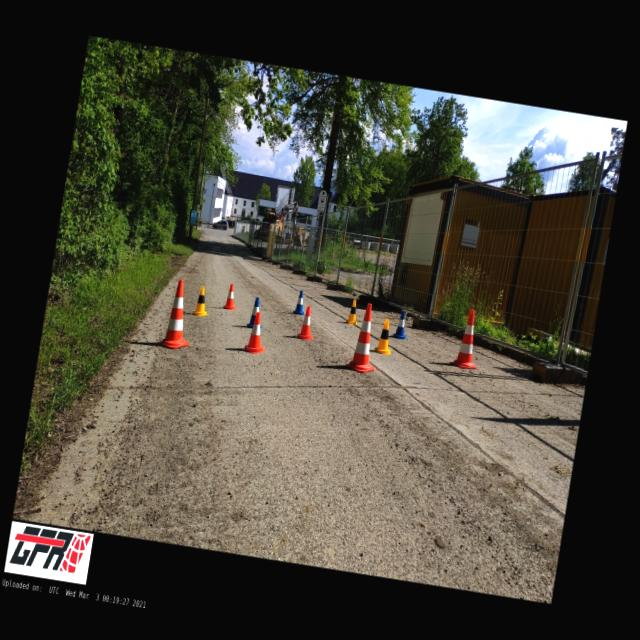blue_cone: (246, 296, 266, 330), (392, 309, 412, 340), (292, 290, 308, 316)
large_orange_cone: (158, 278, 199, 351), (346, 302, 384, 374), (450, 308, 486, 370)
orange_cone: (242, 311, 270, 355), (297, 305, 318, 341), (223, 283, 239, 311)
yellow_cone: (373, 318, 396, 355), (192, 286, 212, 317), (344, 298, 362, 326)
